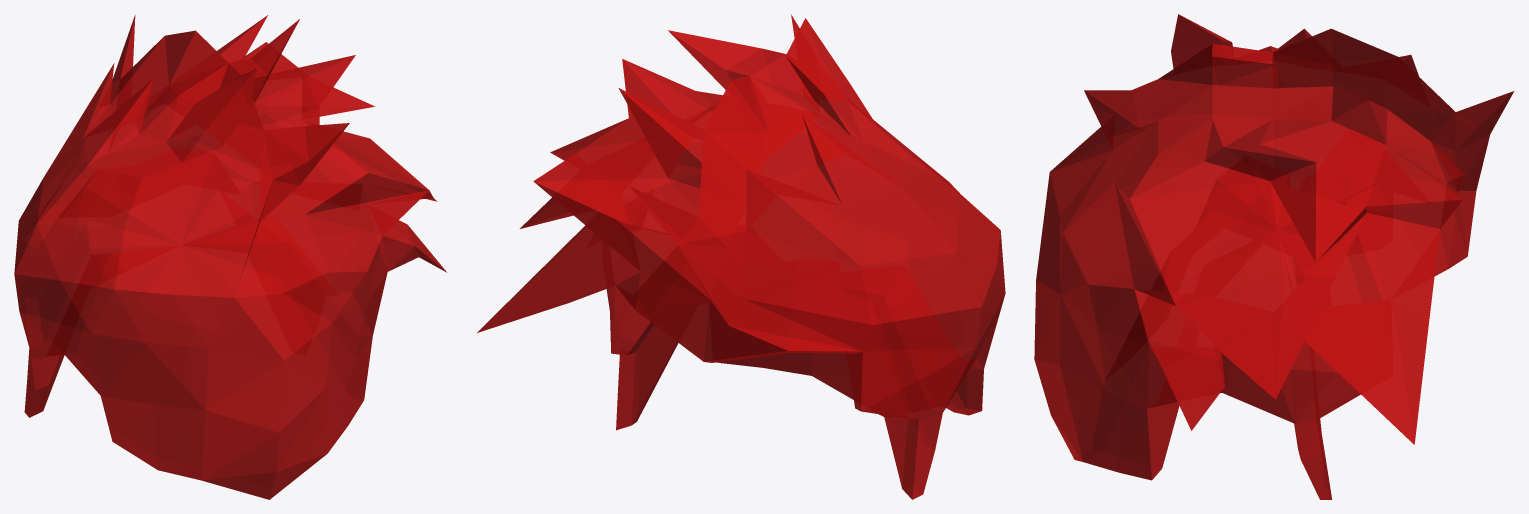
Rendered from transparent_red_roblox_hair.glb.
3 views of the same model, side by side, from view 1: azimuth 30°, elevation 25°; view 2: azimuth 150°, elevation 25°; view 3: azimuth 270°, elevation 25° (orthographic). The views are drawn at different scales.
Parts seen in each view (by area): view 1: Object_2; view 2: Object_2; view 3: Object_2.
Part boxes in pixels (x1,y1,x2,y2): Object_2: [14, 15, 446, 499]; Object_2: [477, 14, 1005, 499]; Object_2: [1034, 14, 1514, 499].
Bounding box in the file's own units: 1.74 × 1.54 × 1.45.
Materials: 1 (1 with a texture image).
